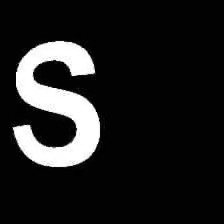LTR_S: (4, 34, 108, 172)
